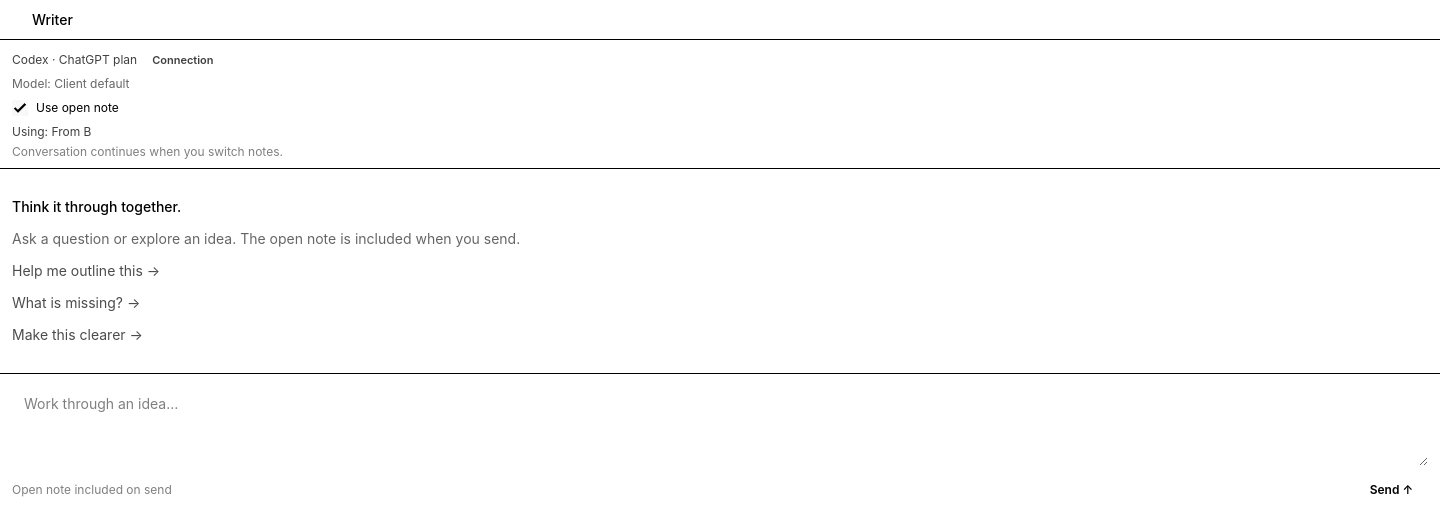
files the open note's chat under that note's vault, not the active vault
Expected: the button "Using: From B" is shown, x1=12 y1=124 x2=1428 y2=140
Type "Discuss B" into the text box named "Message Writer".
click(720, 426); type("Discuss B")  # box x1=12 y1=386 x2=1428 y2=466
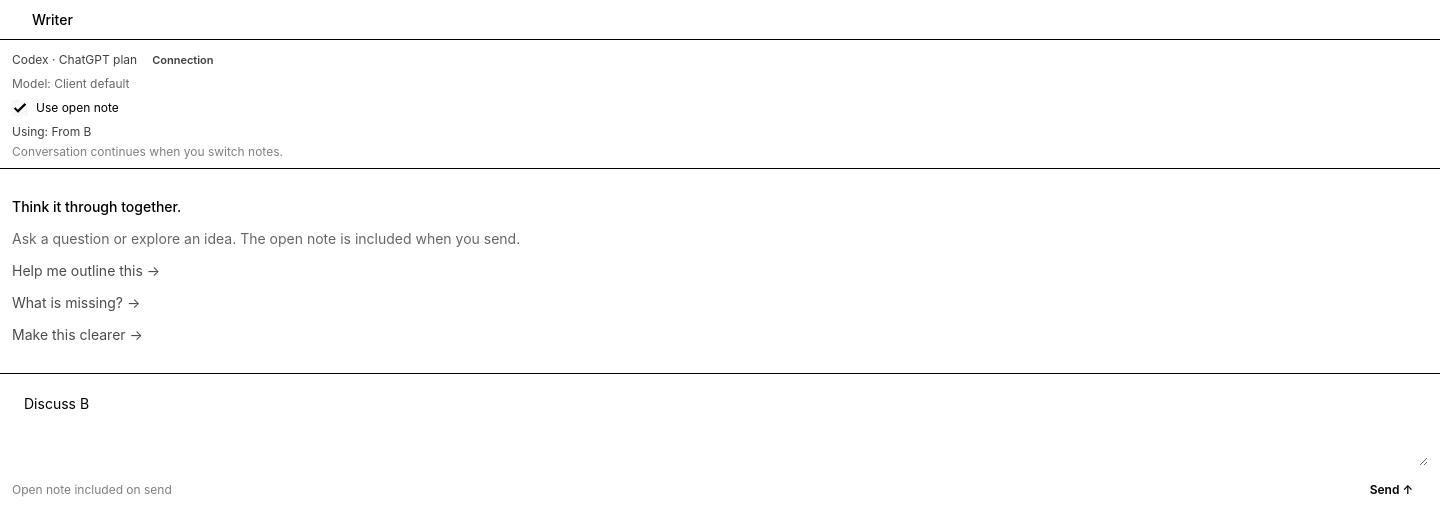
Click the button "Send ↑".
click(1391, 490)  # box x1=1355 y1=474 x2=1428 y2=506
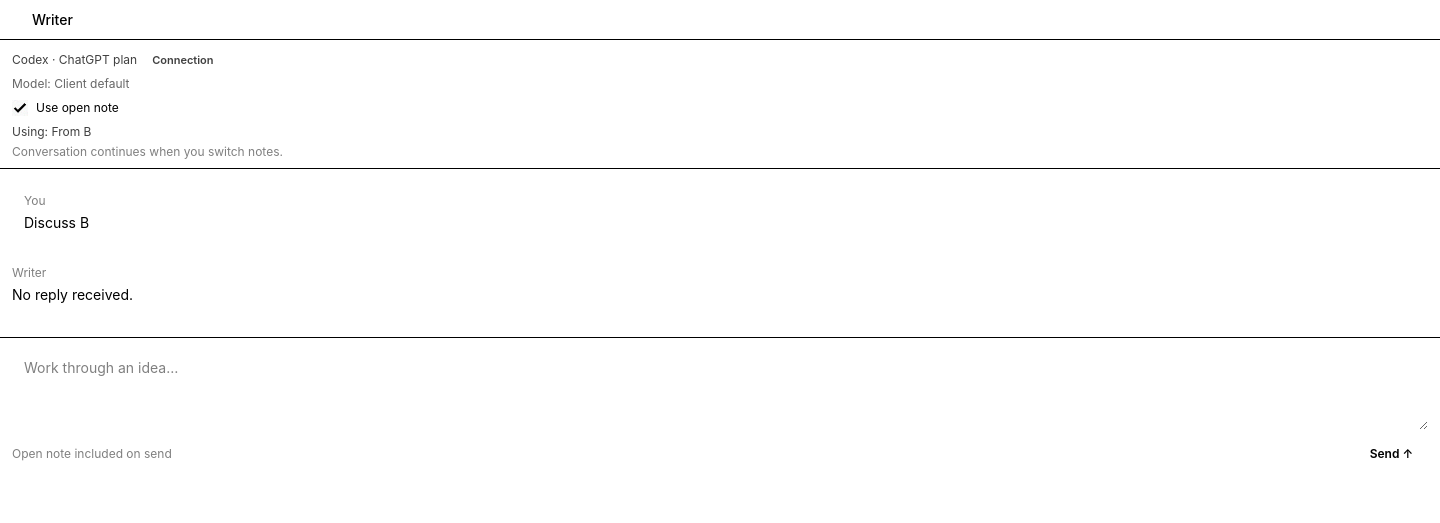
Now the text "Discuss B" is shown, box x1=24 y1=214 x2=89 y2=231
